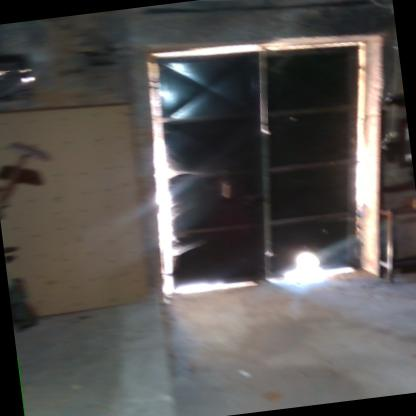closed: (109, 0, 415, 379)
